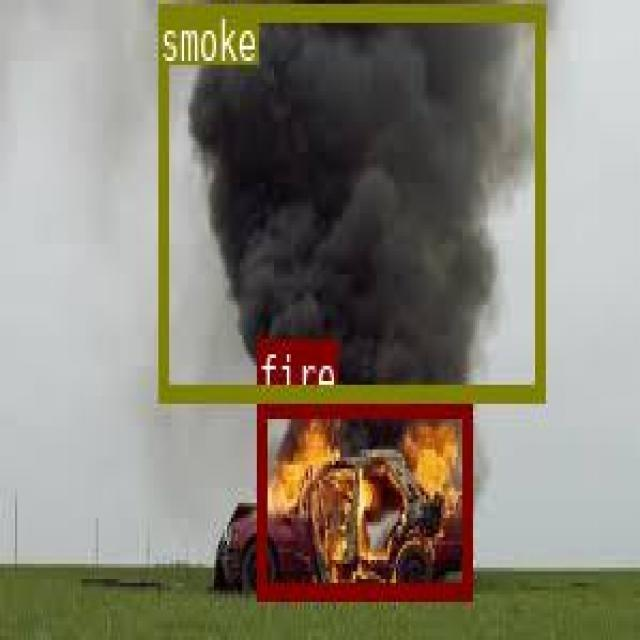fire: (256, 400, 469, 597)
smoke: (157, 2, 542, 399)
